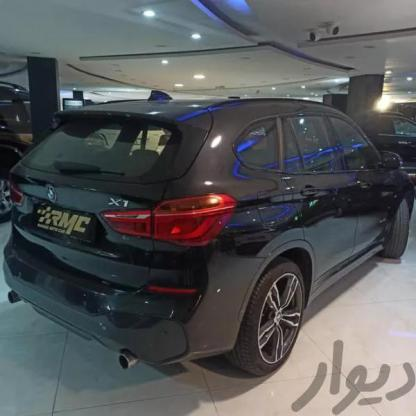Car: (0, 93, 414, 380)
